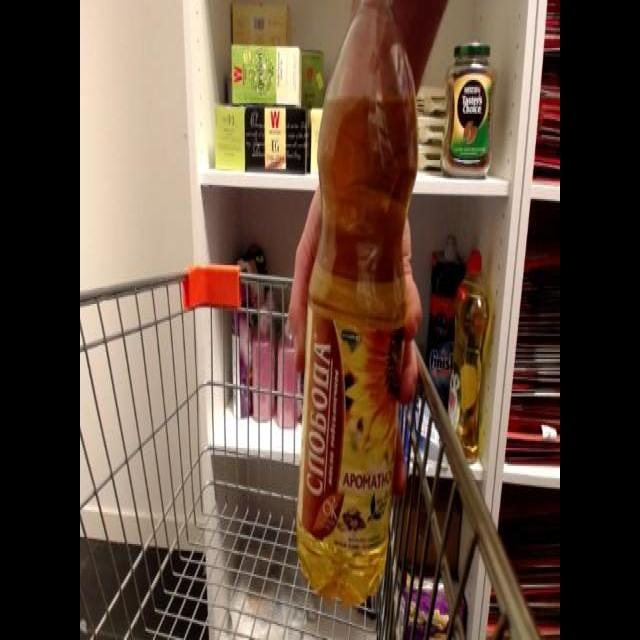Oil: (290, 2, 424, 615)
